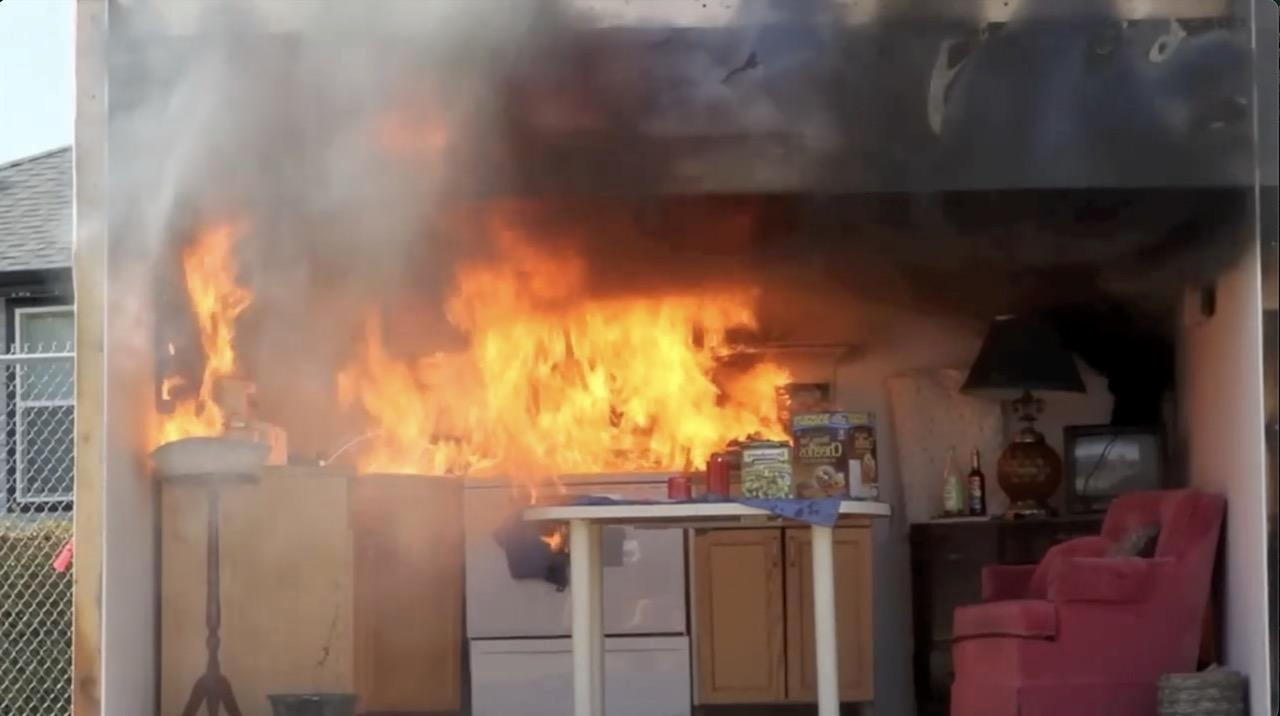fire: (121, 229, 806, 523)
